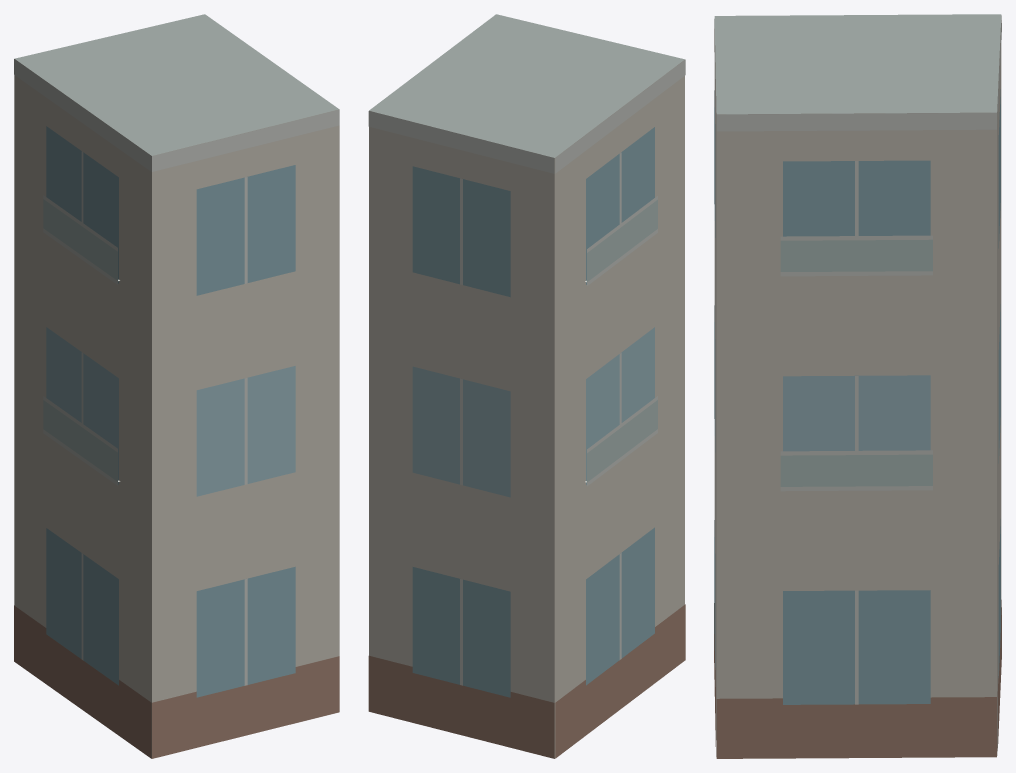
The model's file is survey-upis-32887147.glb.
3 renders of one model, left to right at view 1: azimuth 30°, elevation 25°; view 2: azimuth 150°, elevation 25°; view 3: azimuth 270°, elevation 25°, orthographic. The views are drawn at different scales.
Visible parts, largest first — view 1: survey-upis-32887147.tmp; view 2: survey-upis-32887147.tmp; view 3: survey-upis-32887147.tmp.
Part boxes in pixels (<box>): survey-upis-32887147.tmp: <box>14,14,339,758</box>; survey-upis-32887147.tmp: <box>368,14,685,758</box>; survey-upis-32887147.tmp: <box>714,14,1001,758</box>.
Size of the model in its own units: 3.11 by 9.15 by 3.7.
